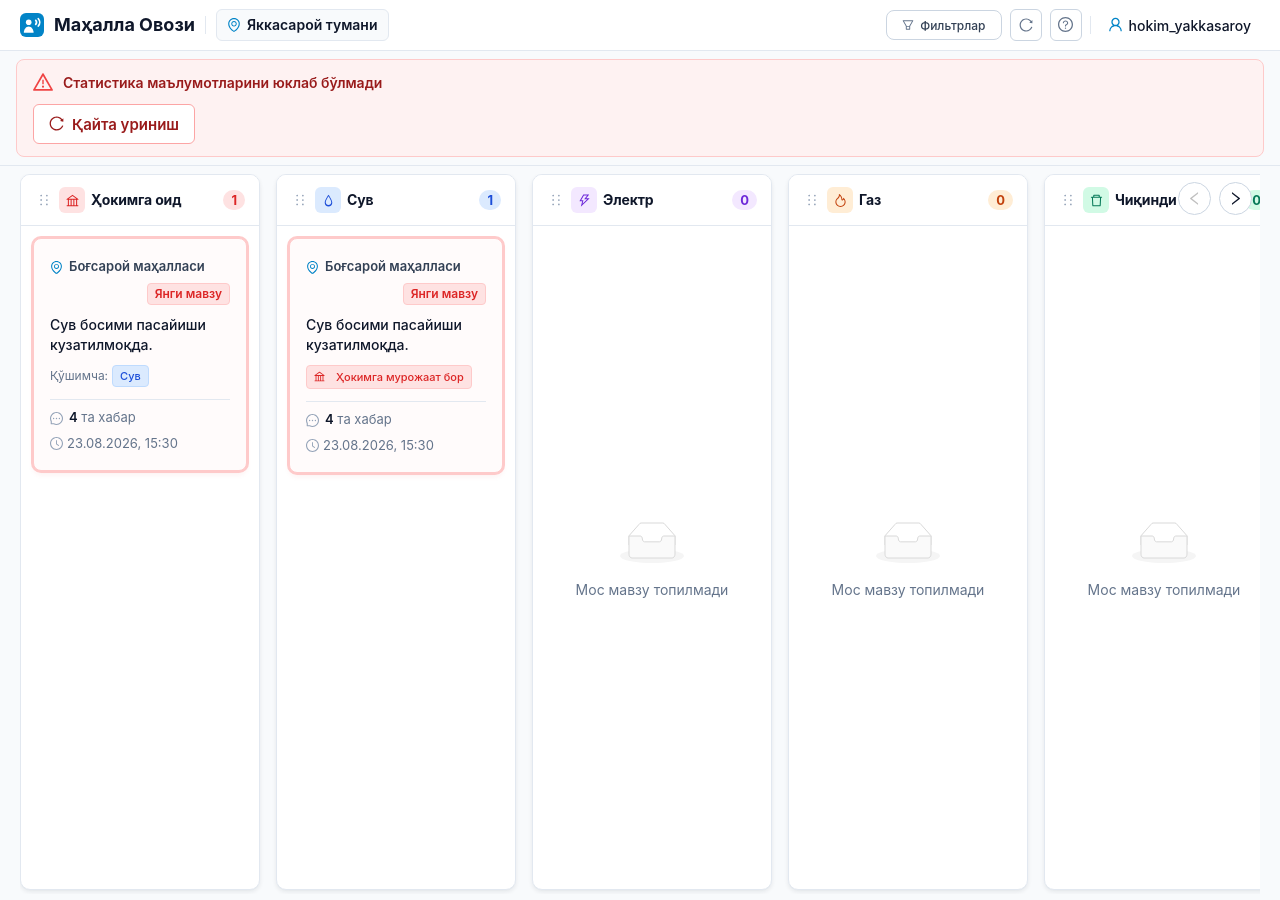
Test case: Hokim Dashboard Component & Integration Tests (Story 3.1) › HokimDashboardPage Integration (AC 1, 2, 3, 5) › renders stale error banner when background refresh fails but retains board (AC 8)
The width and height of the screenshot is (1280, 900).
Expected: the text "Яккасарой тумани" is shown, x1=247 y1=16 x2=378 y2=33
Click the button named "Маълумотларни янгилаш".
click(1026, 25)  # box x1=1010 y1=9 x2=1042 y2=41
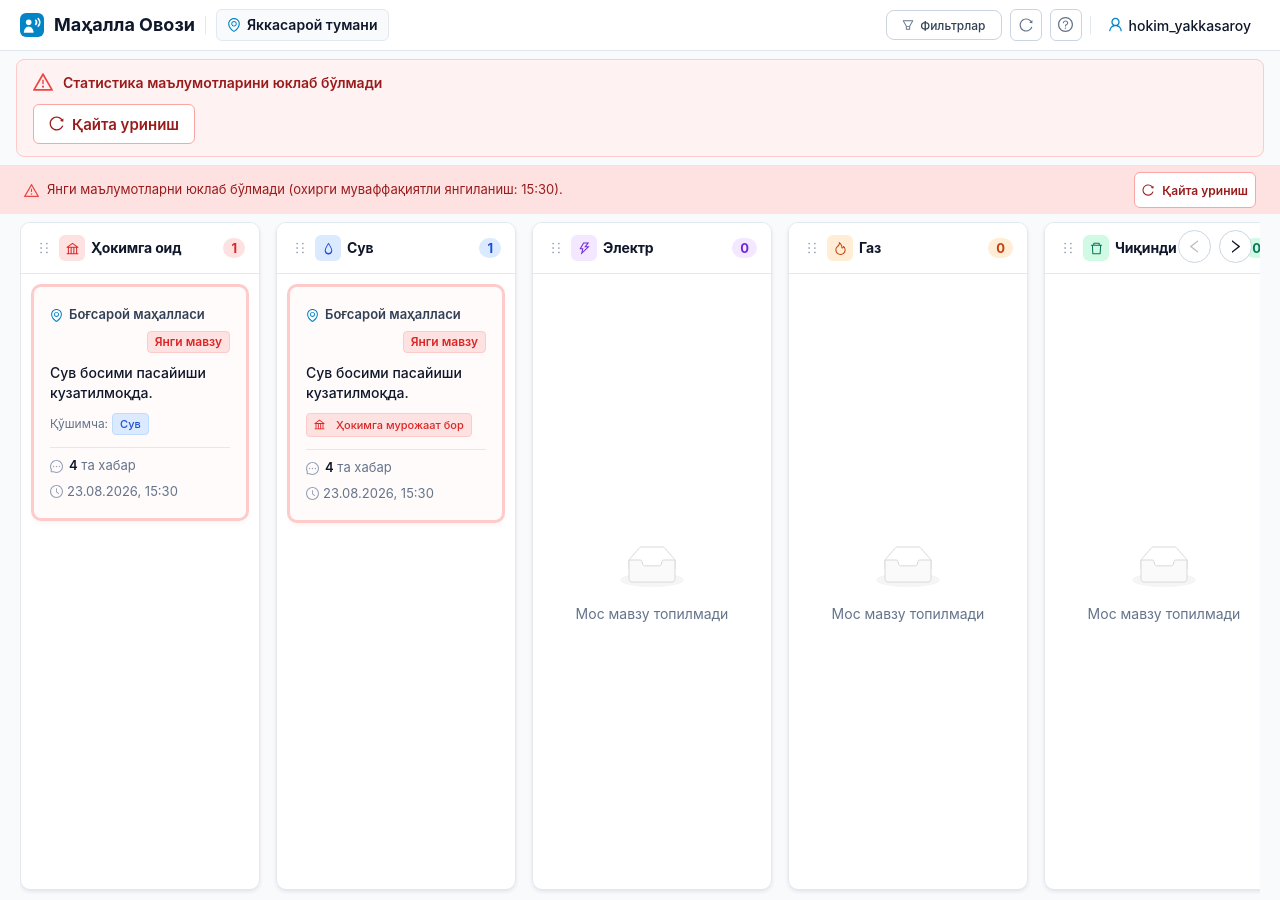
Expected: the text "Янги маълумотларни юклаб бўлмади" is shown, x1=47 y1=181 x2=563 y2=197
Expected: the text "Сув босими пасайиши кузатилмоқда." is shown 2 times, x1=50 y1=364 x2=210 y2=401; x1=306 y1=364 x2=466 y2=401
